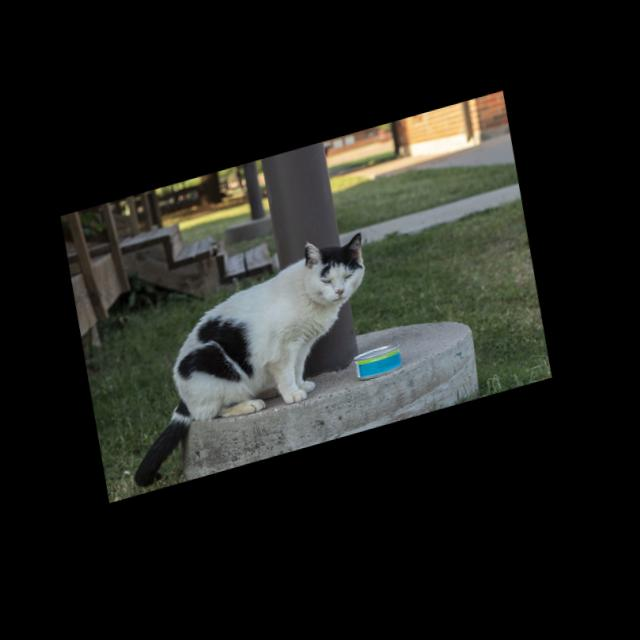animals: (101, 229, 405, 494)
